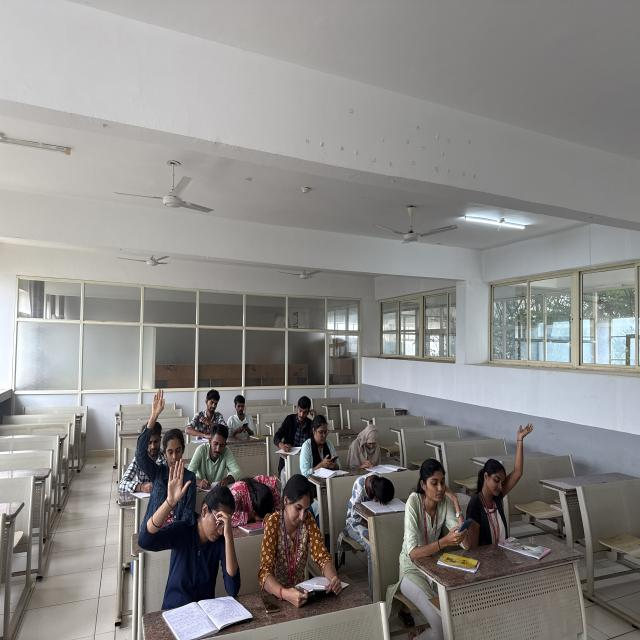Hand Rising: (156, 458, 228, 586), (133, 387, 191, 516), (469, 419, 536, 529)
Reading: (264, 479, 338, 589), (353, 417, 401, 470)
Sleeping: (347, 472, 399, 518)
Using Phone: (400, 458, 470, 541), (294, 407, 345, 482), (226, 378, 262, 448)
Writing: (273, 377, 317, 468), (189, 420, 240, 491)
